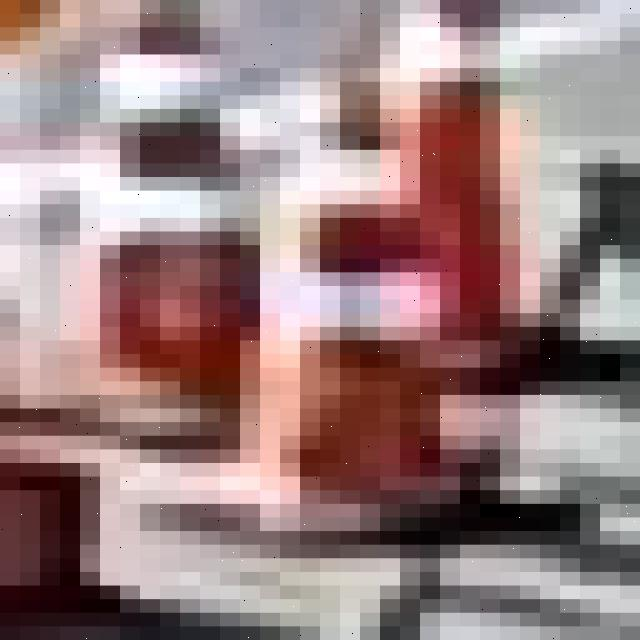small_cone: (268, 94, 440, 516), (80, 1, 246, 437)
